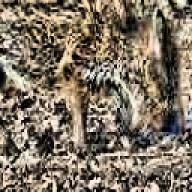boar: (0, 0, 188, 170)
